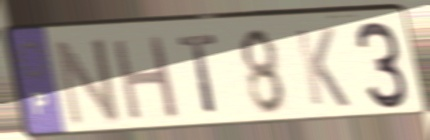3: (352, 17, 409, 113)
8: (238, 26, 290, 118)
H: (109, 33, 183, 125)
K: (292, 26, 353, 110)
N: (51, 34, 124, 131)
T: (174, 31, 222, 117)
